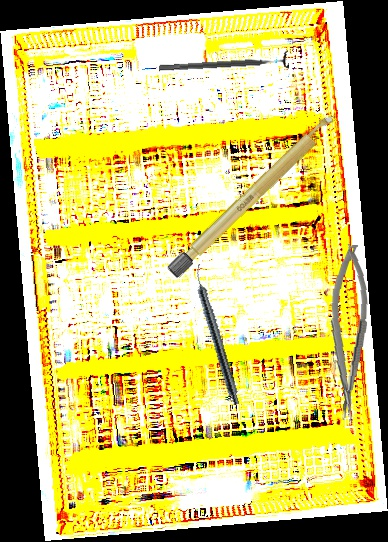Fixation Ring: (158, 48, 290, 79)
Handpiece: (189, 263, 244, 406)
Needle Holder: (323, 243, 373, 422)
Scalpel Handle: (165, 109, 342, 280)
